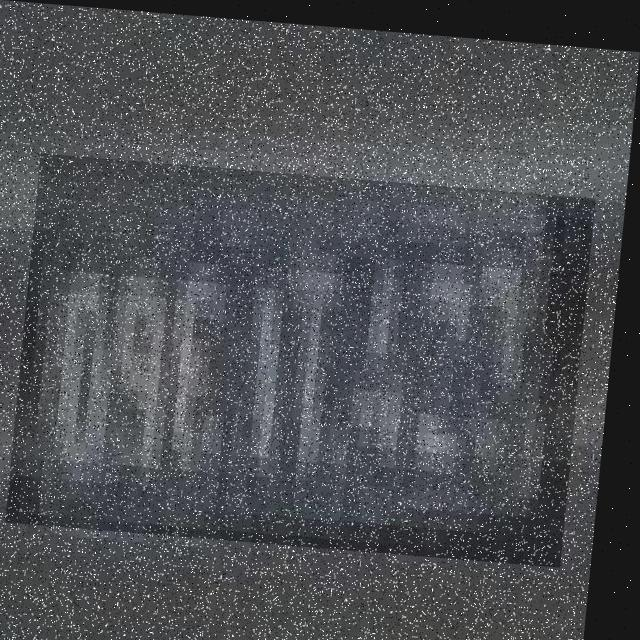LicensePlate: (16, 153, 599, 557)
